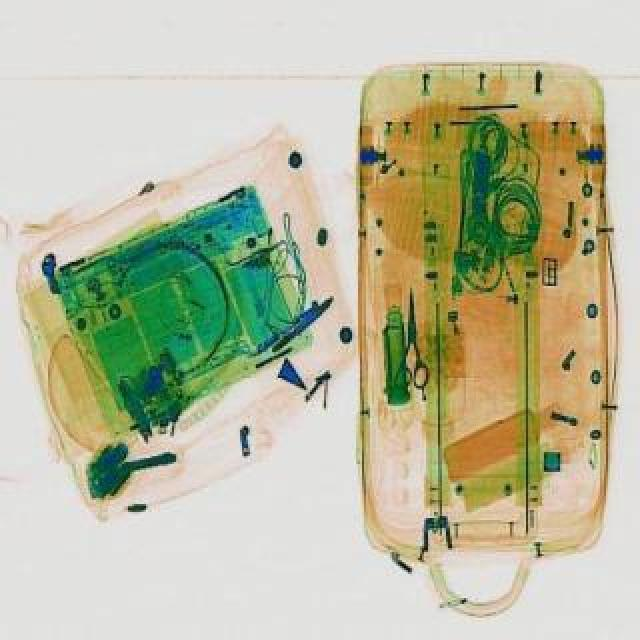pliers: (392, 284, 428, 390)
